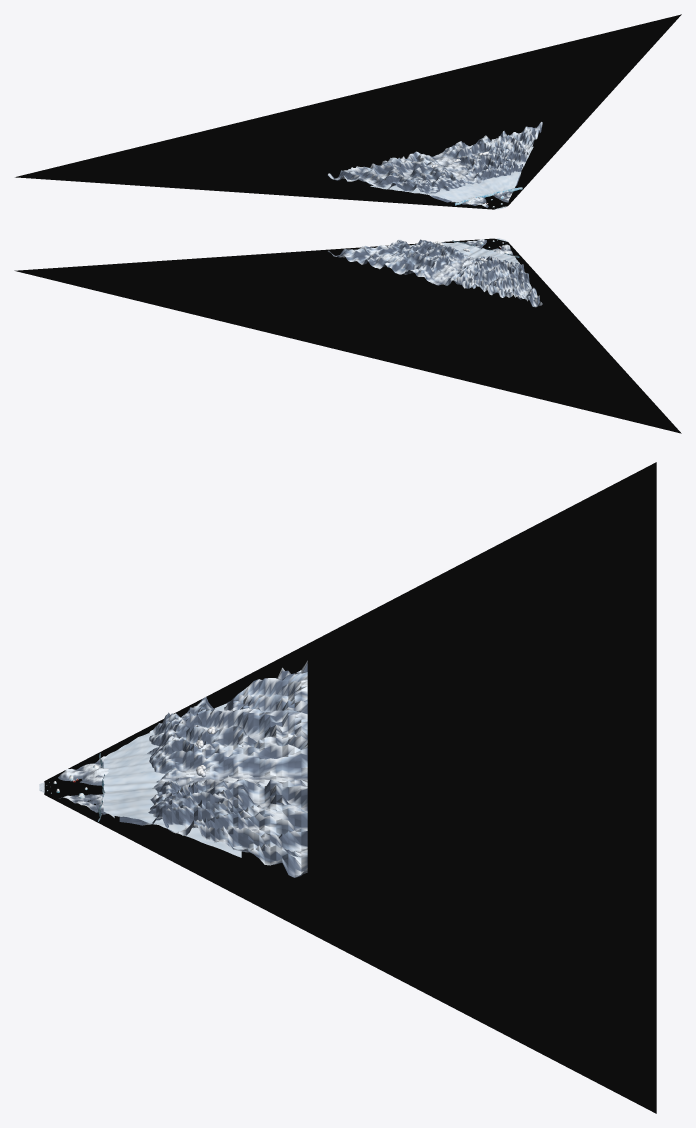
The model's file is backdrop_4.glb.
The picture shows the model from 3 angles, top to bottom: view 1: azimuth 30°, elevation 25°; view 2: azimuth 150°, elevation 25°; view 3: azimuth 270°, elevation 25°; orthographic projection. The views are drawn at different scales.
Visible parts, largest first — view 1: mid_sea, far_peaks, lm_glacier_top, mid_shores; view 2: mid_sea, far_peaks, lm_glacier_top; view 3: mid_sea, far_peaks, lm_glacier_top, mid_shores.
Boxes of the visible parts, <box> form: mid_sea: <box>15,14,681,209</box>; far_peaks: <box>328,122,542,202</box>; lm_glacier_top: <box>370,146,533,202</box>; mid_shores: <box>451,188,514,207</box>; mid_sea: <box>14,238,681,433</box>; far_peaks: <box>327,239,542,307</box>; lm_glacier_top: <box>411,242,531,288</box>; mid_sea: <box>44,462,656,1113</box>; far_peaks: <box>119,660,307,877</box>; lm_glacier_top: <box>103,704,241,857</box>; mid_shores: <box>58,756,114,817</box>.
Size of the model in its own units: 3273 by 104 by 1310.
